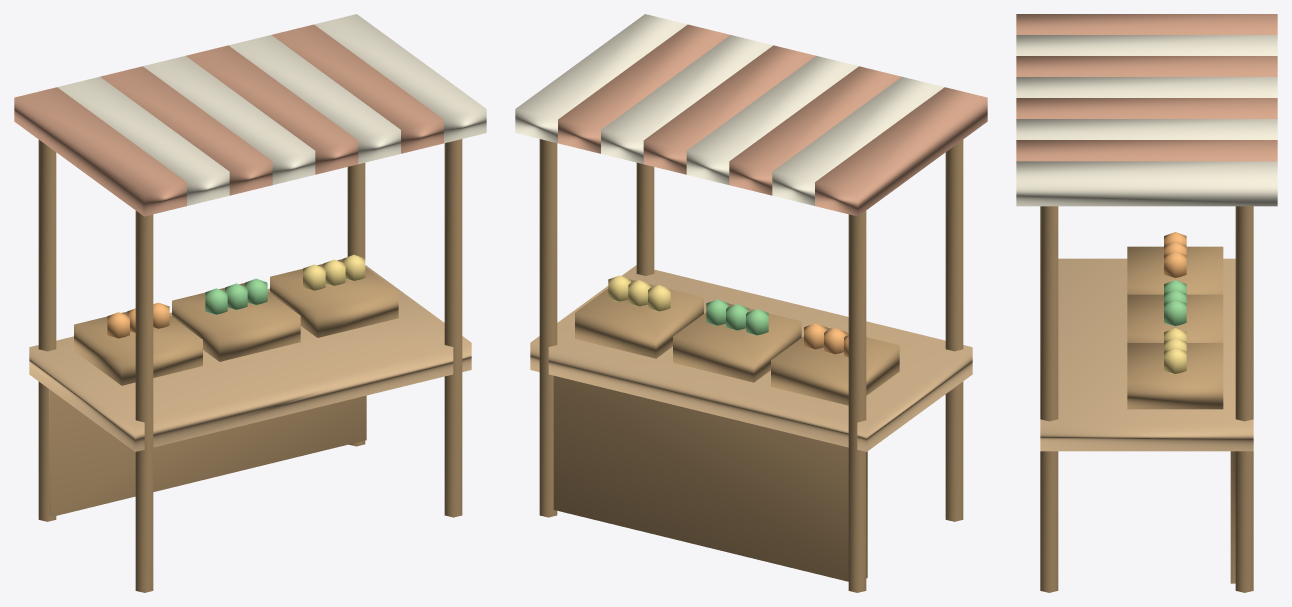
Rendered from trader_low.glb.
3 renders of one model, left to right at view 1: azimuth 30°, elevation 25°; view 2: azimuth 150°, elevation 25°; view 3: azimuth 270°, elevation 25°, orthographic.
Size of the model in its own units: 2.24 by 2.58 by 1.47.
